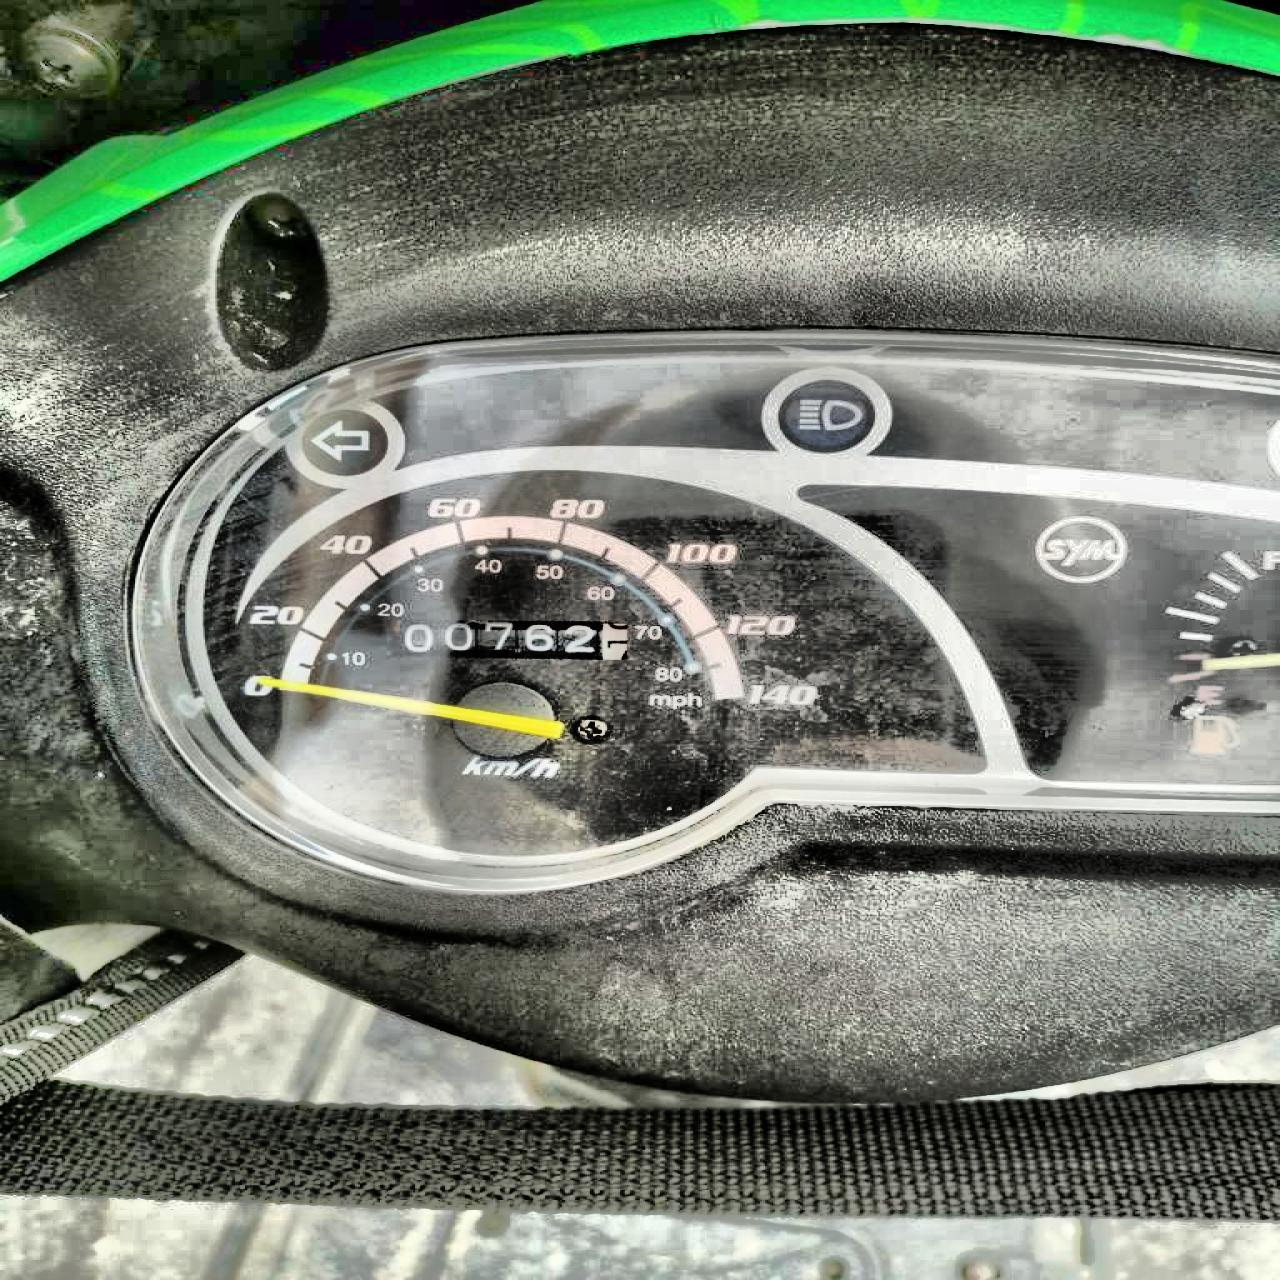0: (400, 622, 434, 653), (440, 621, 474, 651)
2: (561, 622, 597, 653)
6: (524, 621, 553, 651)
7: (482, 620, 513, 651), (601, 638, 626, 660)
odometer: (379, 613, 633, 667)
